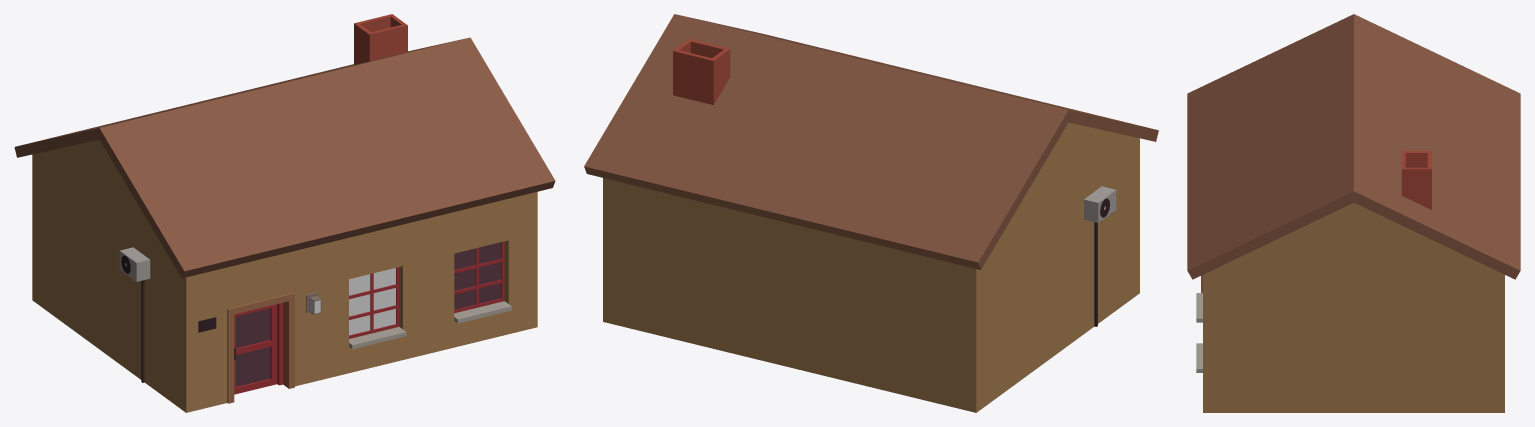
The model's file is Building_34.FBX.
3 views of the same model, side by side, from view 1: azimuth 30°, elevation 25°; view 2: azimuth 150°, elevation 25°; view 3: azimuth 270°, elevation 25° (orthographic). The views are drawn at different scales.
Parts seen in each view (by area): view 1: Building_34, Building_34LP; view 2: Building_34; view 3: Building_34.
Boxes of the visible parts, x1,y1,x2,y2 form: Building_34: (14, 14, 555, 412); Building_34LP: (309, 268, 395, 335); Building_34: (584, 14, 1158, 412); Building_34: (1187, 14, 1520, 412).
Size of the model in its own units: 12 by 7.18 by 9.43.
